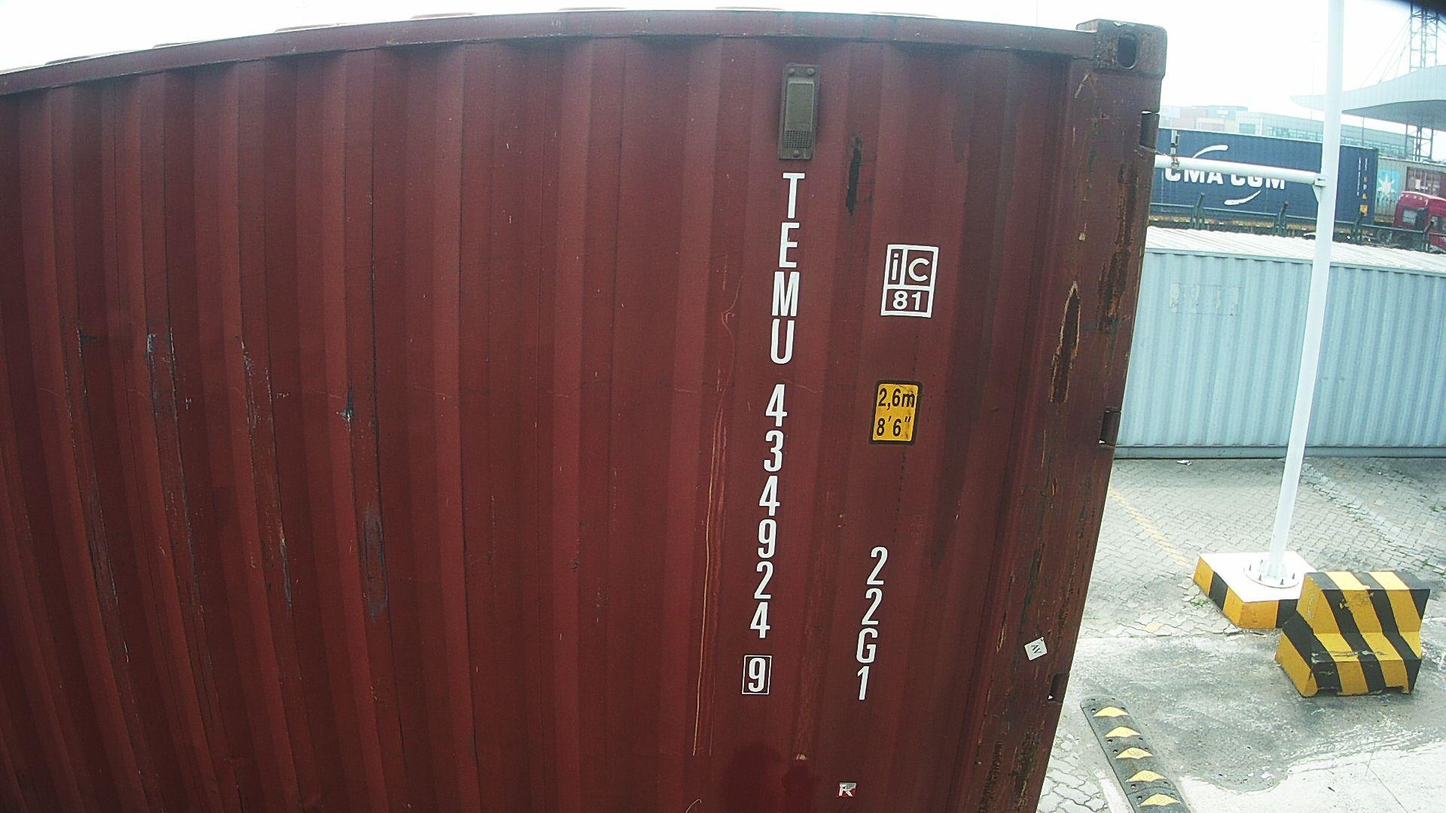container-numbers: (738, 167, 810, 700), (848, 540, 890, 706)
